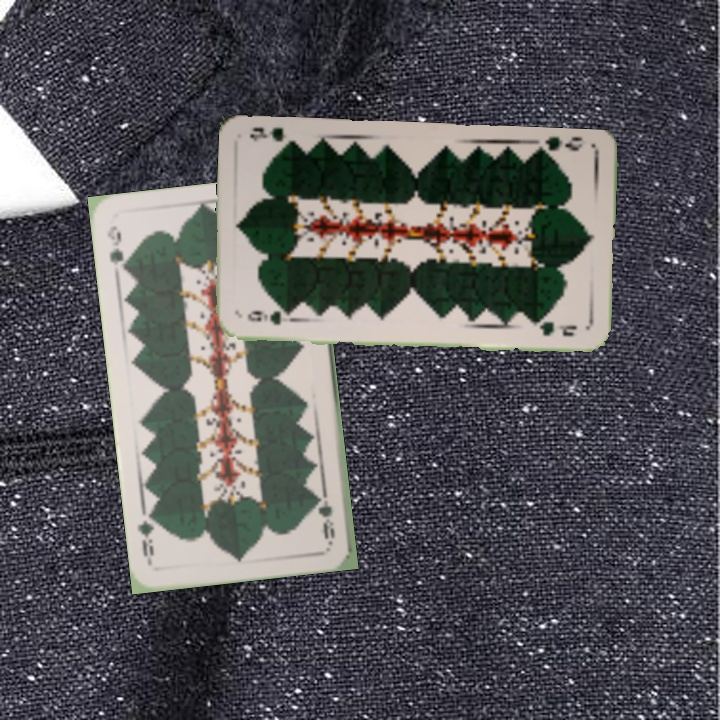G9: (103, 221, 130, 277), (533, 134, 585, 161), (316, 486, 338, 546), (243, 308, 284, 328)
